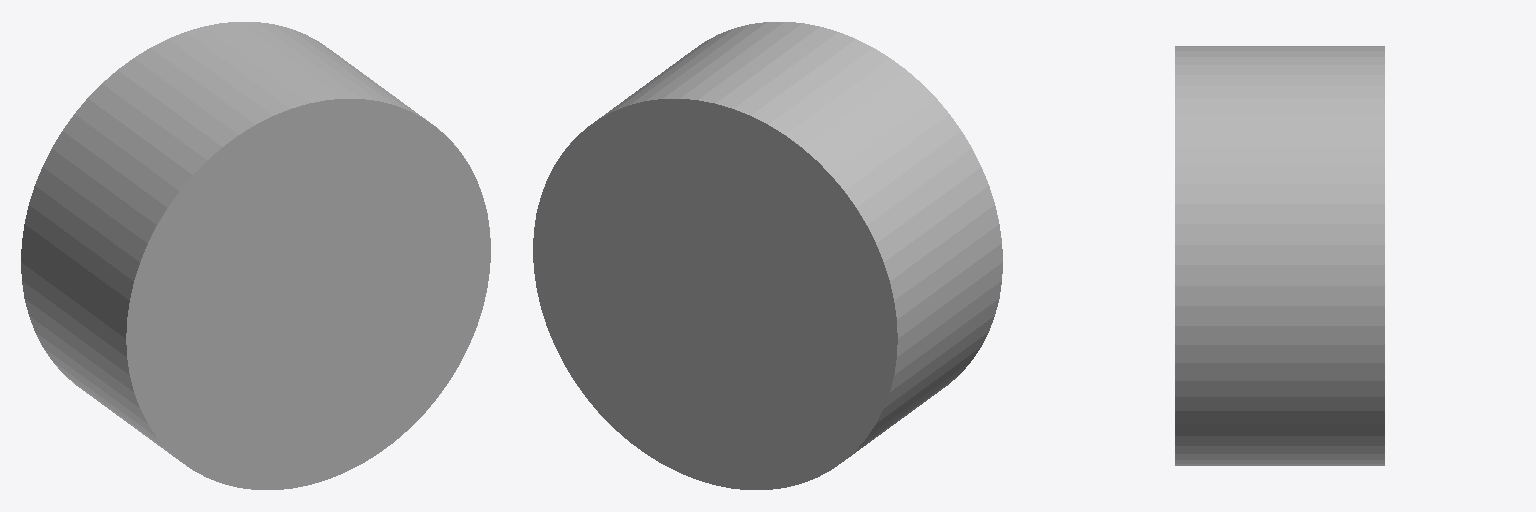
Rendered from pillar.obj.
3 renders of one model, left to right at view 1: azimuth 30°, elevation 25°; view 2: azimuth 150°, elevation 25°; view 3: azimuth 270°, elevation 25°, orthographic.
Visible parts, largest first — view 1: Cylinder__5; view 2: Cylinder__5; view 3: Cylinder__5.
Boxes of the visible parts, x1,y1,x2,y2 form: Cylinder__5: [21, 22, 490, 489]; Cylinder__5: [533, 22, 1002, 489]; Cylinder__5: [1175, 46, 1384, 465].
Bounding box in the file's own units: 2 × 2 × 1.